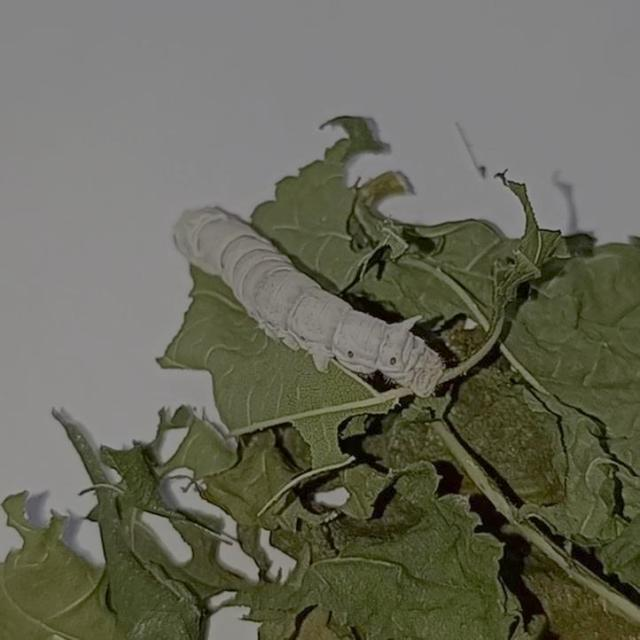Healthy: (160, 190, 455, 412)
